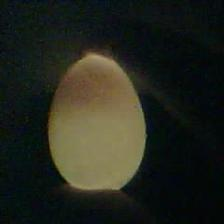infertile: (46, 49, 150, 194)
